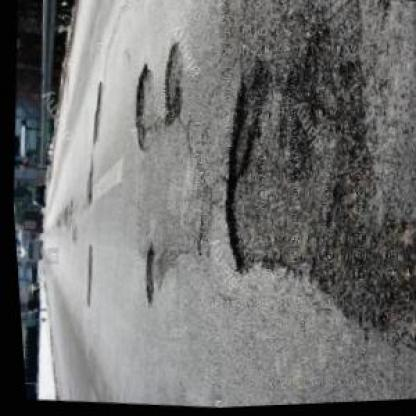pothole: (202, 12, 392, 292), (153, 39, 190, 130), (124, 61, 157, 154), (84, 79, 106, 151), (136, 244, 154, 307), (75, 243, 91, 309), (80, 158, 94, 208), (62, 198, 71, 216)
